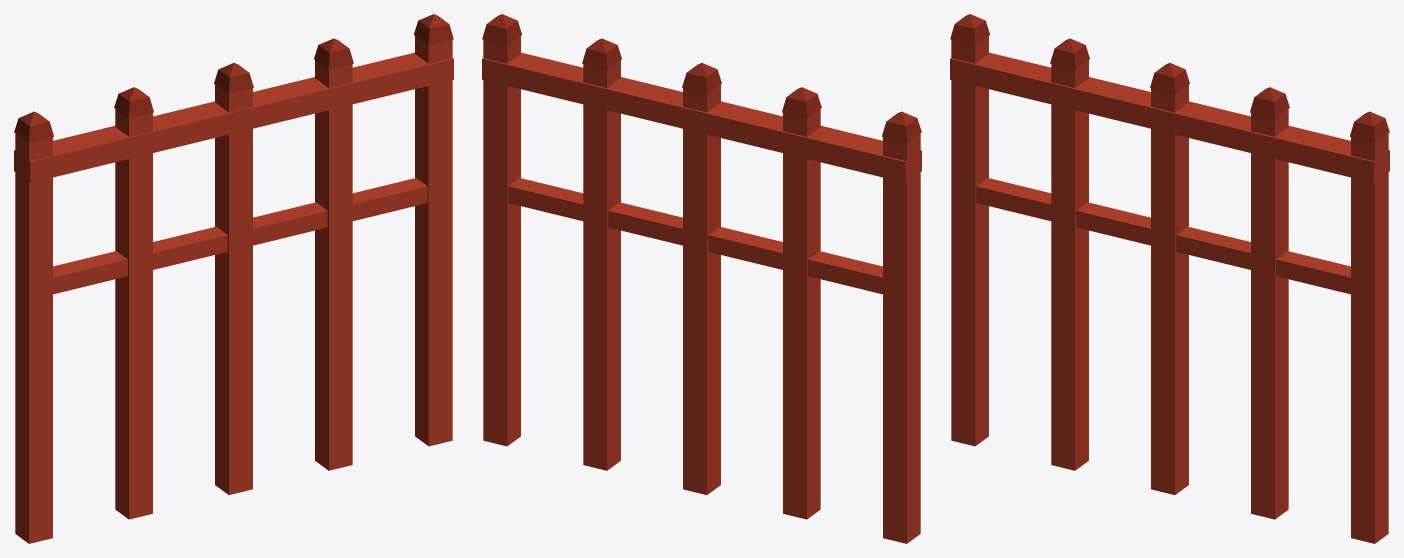
The model's file is Shrine_Fence.fbx.
The picture shows the model from 3 angles, left to right: view 1: azimuth 30°, elevation 25°; view 2: azimuth 150°, elevation 25°; view 3: azimuth 330°, elevation 25°; orthographic projection.
Visible parts, largest first — view 1: Shrine_Fence; view 2: Shrine_Fence; view 3: Shrine_Fence.
Boxes of the visible parts, x1,y1,x2,y2 form: Shrine_Fence: [14, 14, 453, 543]; Shrine_Fence: [482, 14, 921, 543]; Shrine_Fence: [950, 14, 1389, 543].
Bounding box in the file's own units: 10.64 × 10.15 × 0.7.
